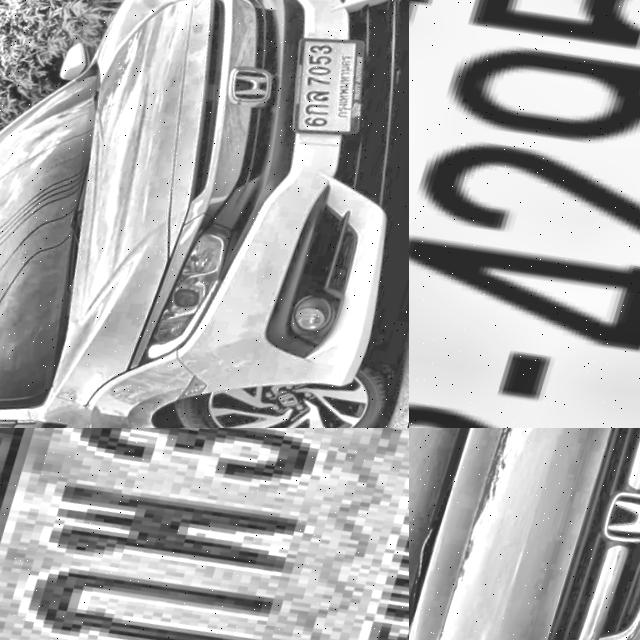license-plate: (409, 0, 640, 428), (0, 428, 409, 640), (269, 30, 391, 162)
